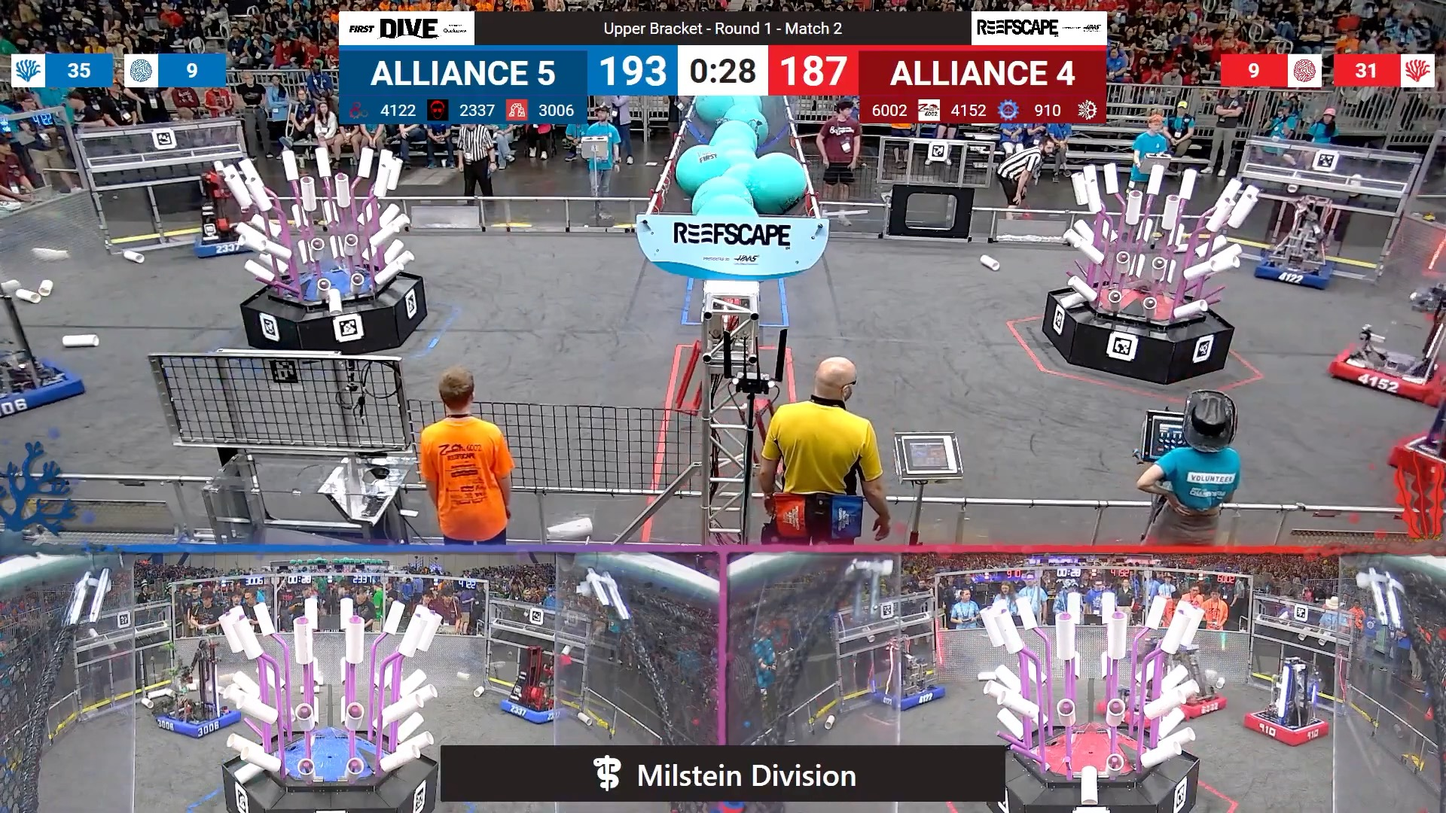bumpers: (1322, 341, 1445, 407), (0, 356, 90, 426), (1389, 421, 1445, 501), (1236, 705, 1338, 748), (148, 701, 249, 744), (1243, 251, 1344, 294), (186, 226, 270, 261), (866, 681, 951, 714), (493, 694, 572, 728), (1169, 687, 1232, 720)
